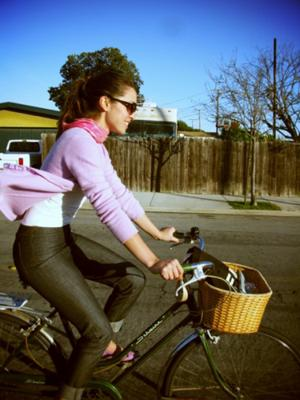person: (12, 48, 183, 398)
